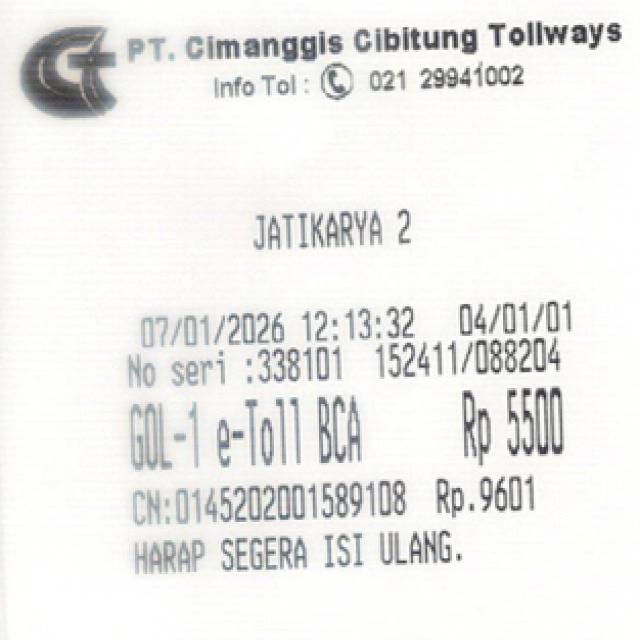date: (122, 299, 422, 346)
store: (120, 14, 634, 56)
total: (437, 379, 567, 465)
